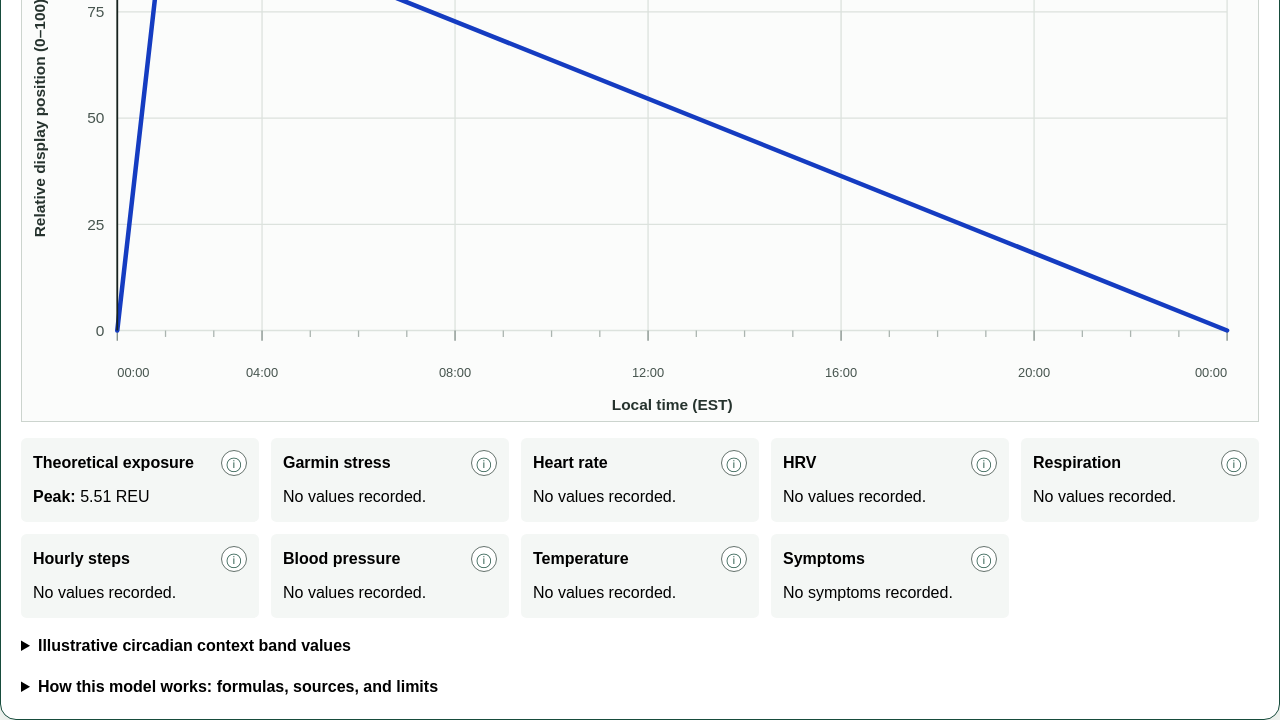
Test case: Daily HealthCurve › renders empty context lanes and the true 23-hour DST axis without inventing data
This screenshot has width=1280, height=720.
(page scrolled)
Step 1. Focus the button named "About Garmin stress data" → (484,463), box [471,450,497,476]
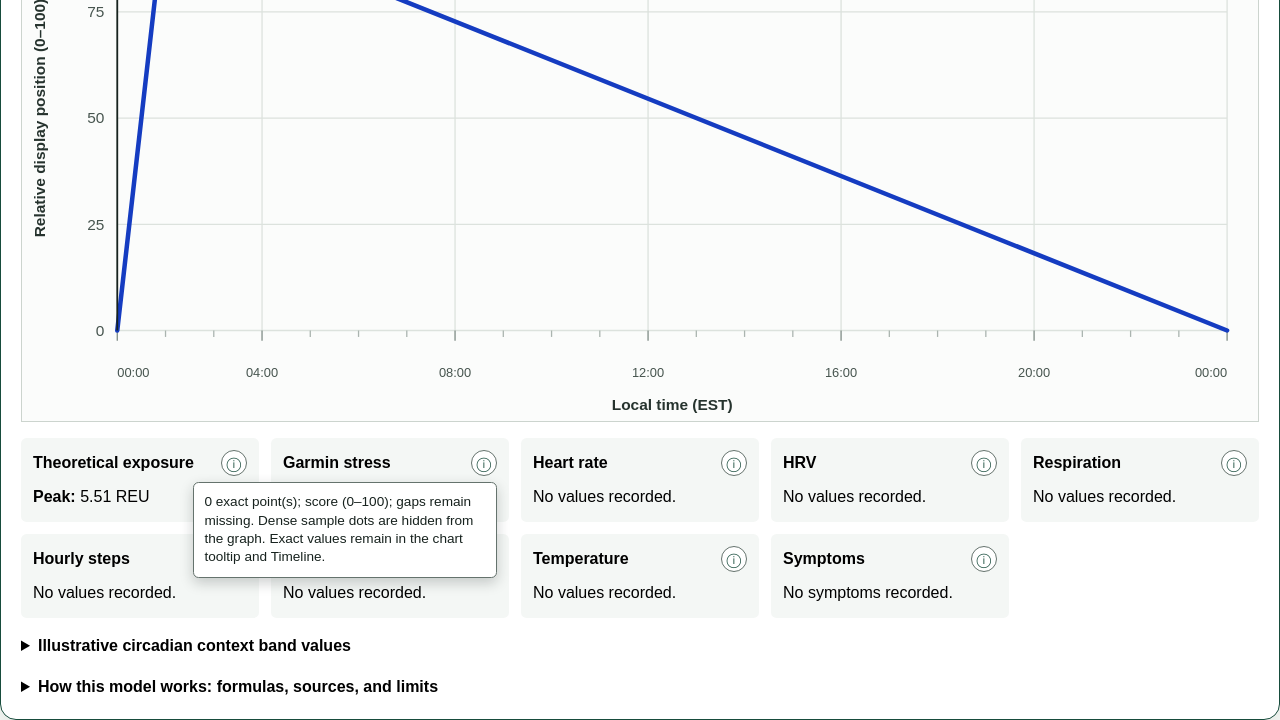
Expected: the tooltip shows "0 exact point(s)", [204,494,473,564]
Step 2. Leave the button named "About Garmin stress data", box [471,450,497,476]
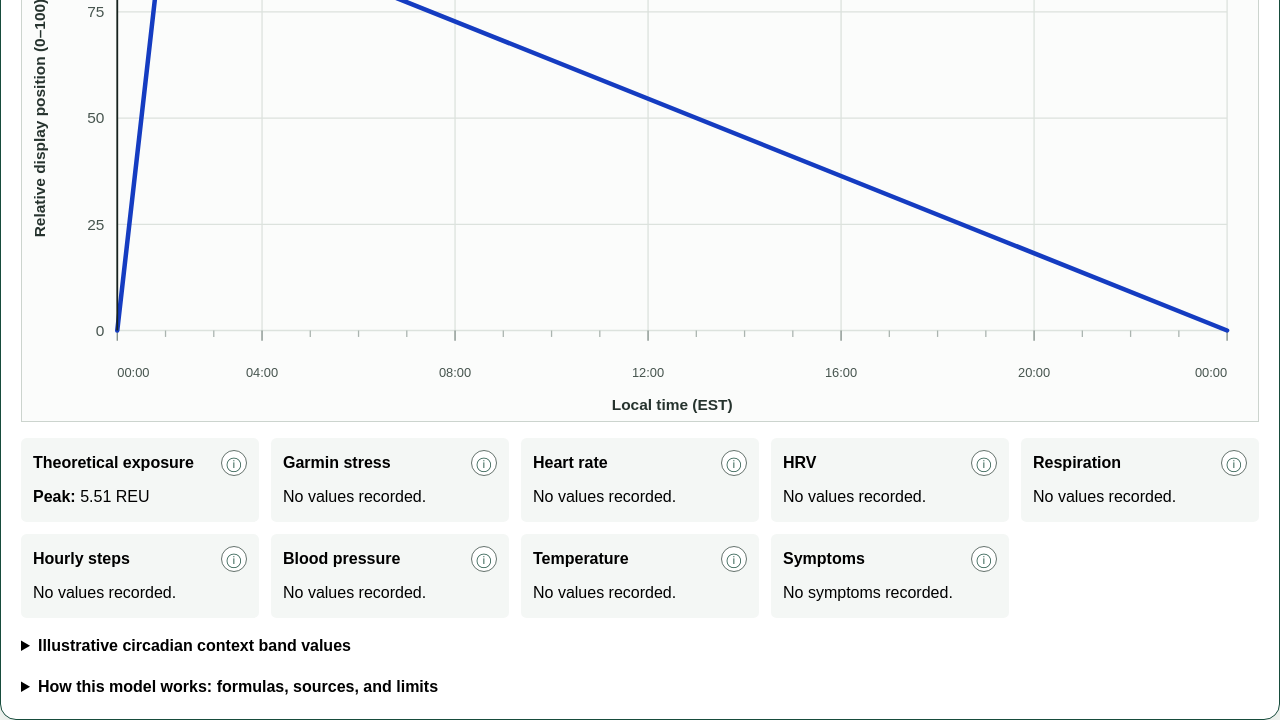
Step 3. Hover over the button named "About Heart rate data" → (734,463), box [721,450,747,476]
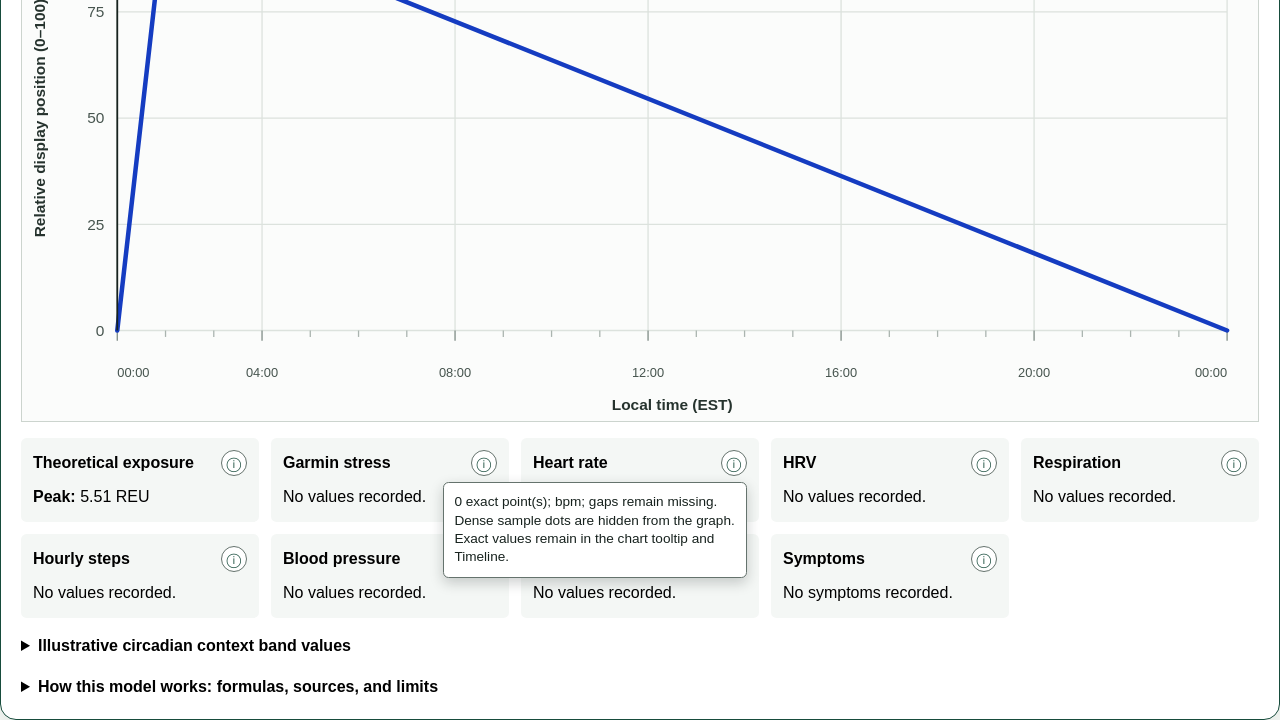
Step 4. Move the pointer off the button named "About Heart rate data", box [721,450,747,476]
(page scrolled)
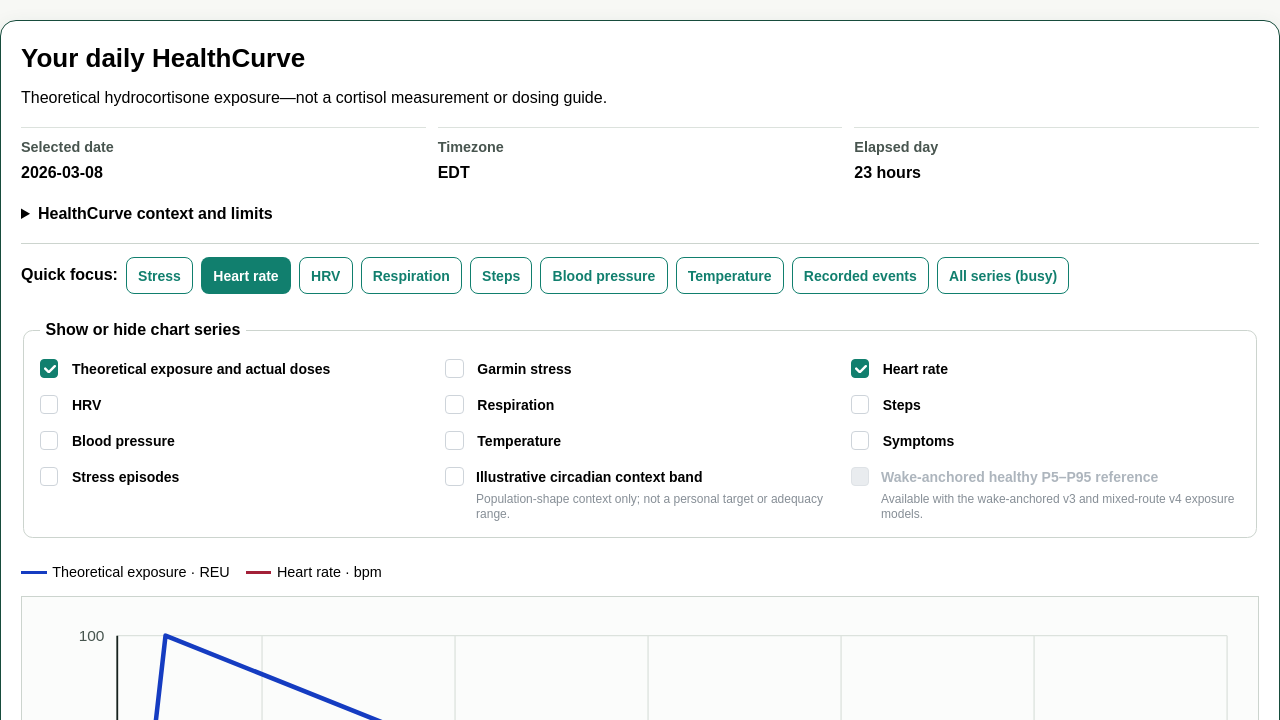
Step 5. Click the heading "HealthCurve context and limits" → (155,214), box [38,205,273,222]
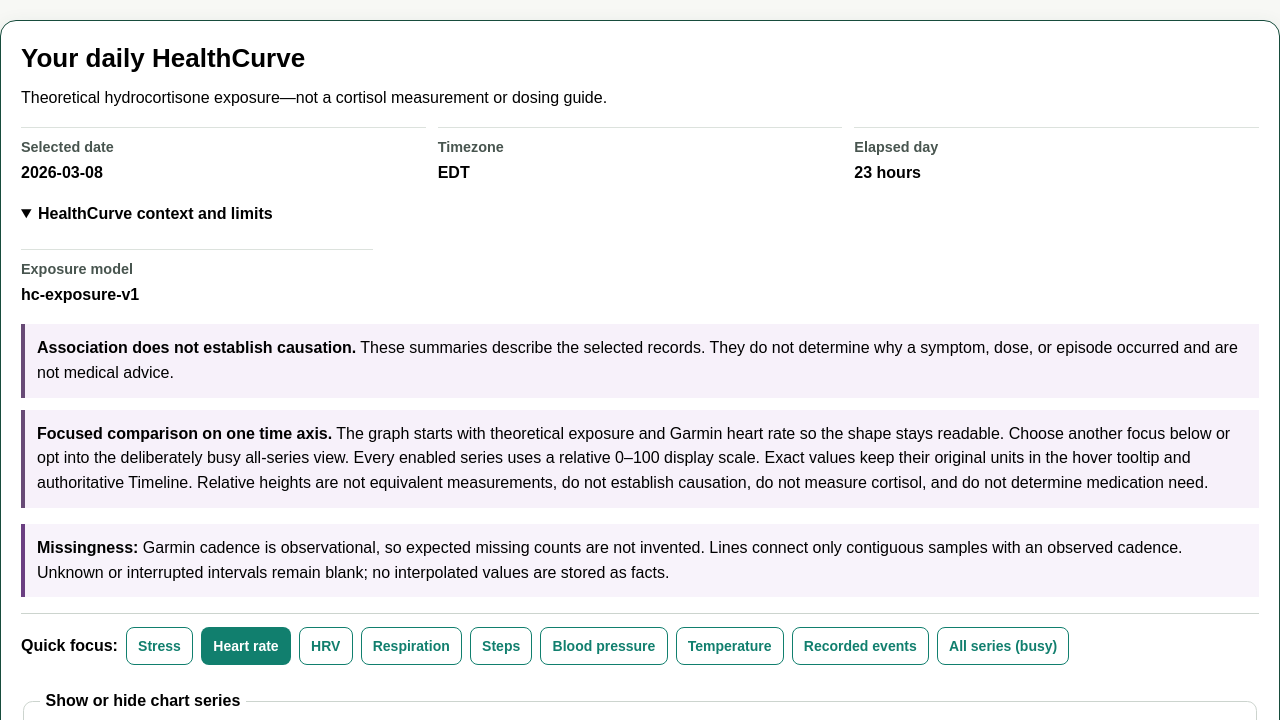
Expected: the text "expected missing counts are not invented" is shown, [37,539,1182,581]
